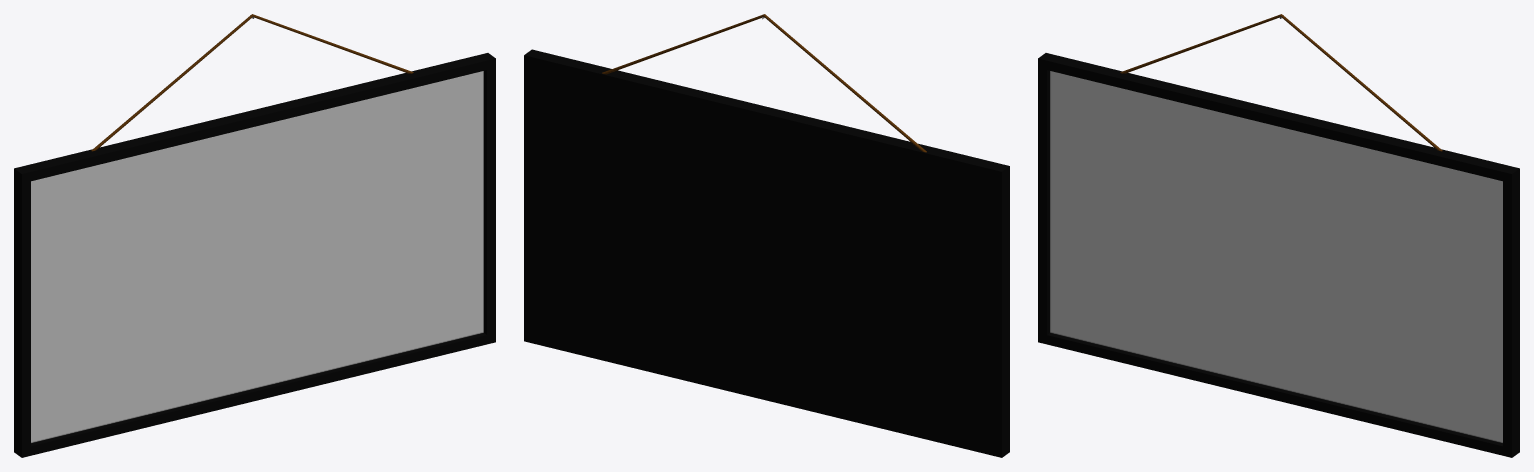
The model's file is image1.fbx.
The picture shows the model from 3 angles, left to right: view 1: azimuth 30°, elevation 25°; view 2: azimuth 150°, elevation 25°; view 3: azimuth 330°, elevation 25°; orthographic projection.
Parts seen in each view (by area): view 1: Cube, Plane; view 2: Cube, Plane; view 3: Cube, Plane.
Boxes of the visible parts, x1,y1,x2,y2 form: Cube: (14,53,495,457); Plane: (91,14,413,151); Cube: (524,49,1009,457); Plane: (602,14,926,152); Cube: (1038,53,1519,457); Plane: (1120,14,1442,151).
Bounding box in the file's own units: 350 × 269 × 11.11.
4 materials, 1 textured.
